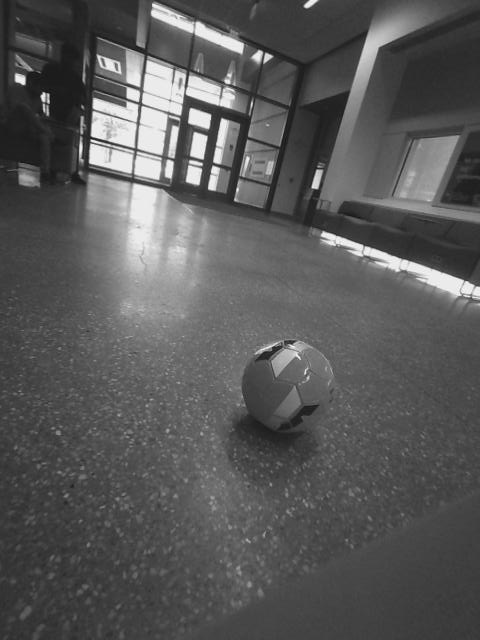ball: (221, 239, 268, 282)
